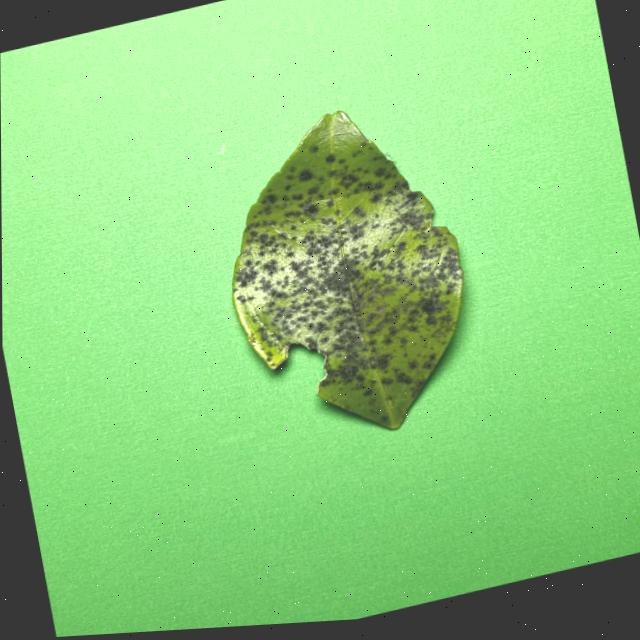sooty_mold: (233, 110, 462, 427)
